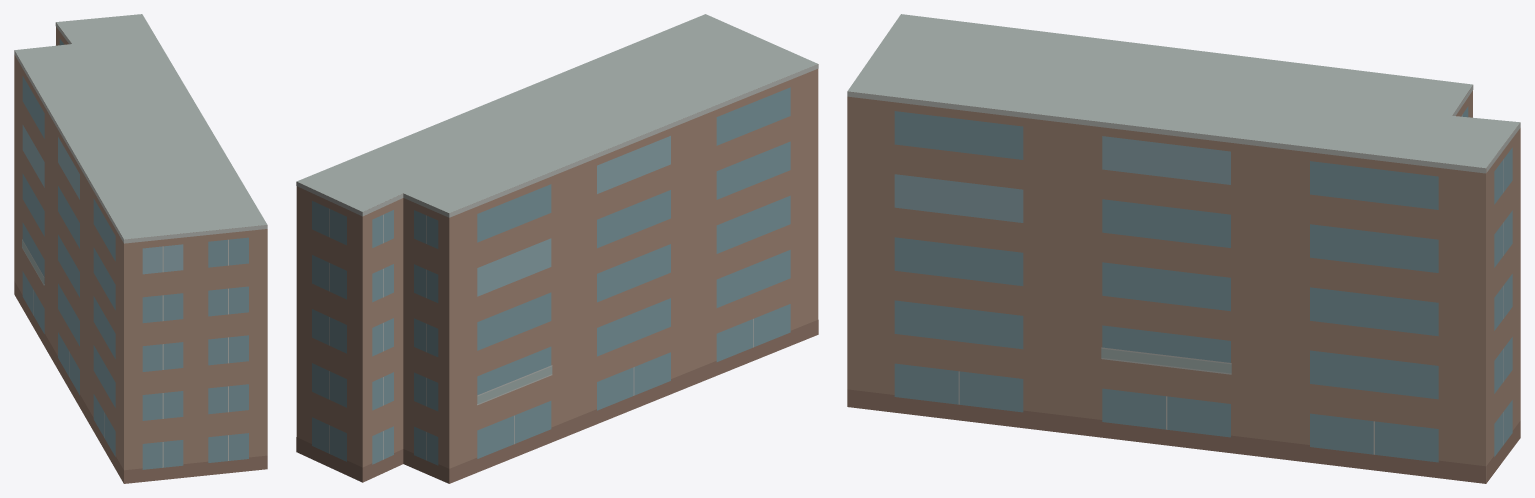
File: survey-upis-32876934.glb
3 views of the same model, side by side, from view 1: azimuth 30°, elevation 25°; view 2: azimuth 150°, elevation 25°; view 3: azimuth 270°, elevation 25° (orthographic). The views are drawn at different scales.
Visible parts, largest first — view 1: survey-upis-32876934.tmp; view 2: survey-upis-32876934.tmp; view 3: survey-upis-32876934.tmp.
Boxes of the visible parts, left/top/right/bottom form: survey-upis-32876934.tmp: left=14, top=14, right=267, bottom=483; survey-upis-32876934.tmp: left=296, top=14, right=818, bottom=483; survey-upis-32876934.tmp: left=847, top=14, right=1520, bottom=483.
Bounding box in the file's own units: 15.42 × 14.7 × 28.43.
